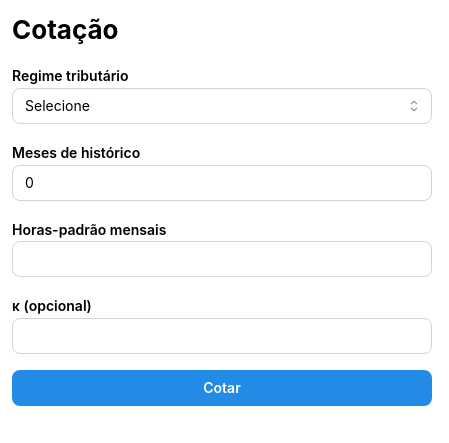
cotação › o regime é obrigatório e nada é enviado sem ele
The width and height of the screenshot is (449, 443).
Click the button "Cotar".
click(222, 388)  # box [12,370,432,406]
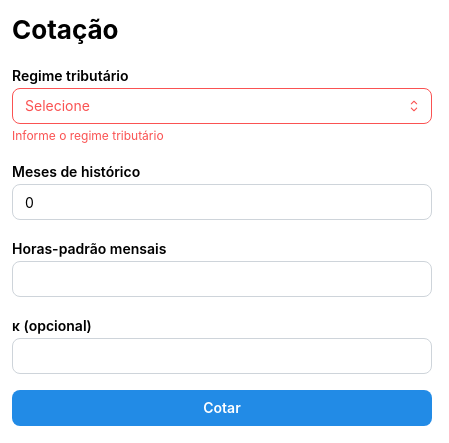
Expected: the text "Informe o regime tributário" is shown, [12,128,164,143]
